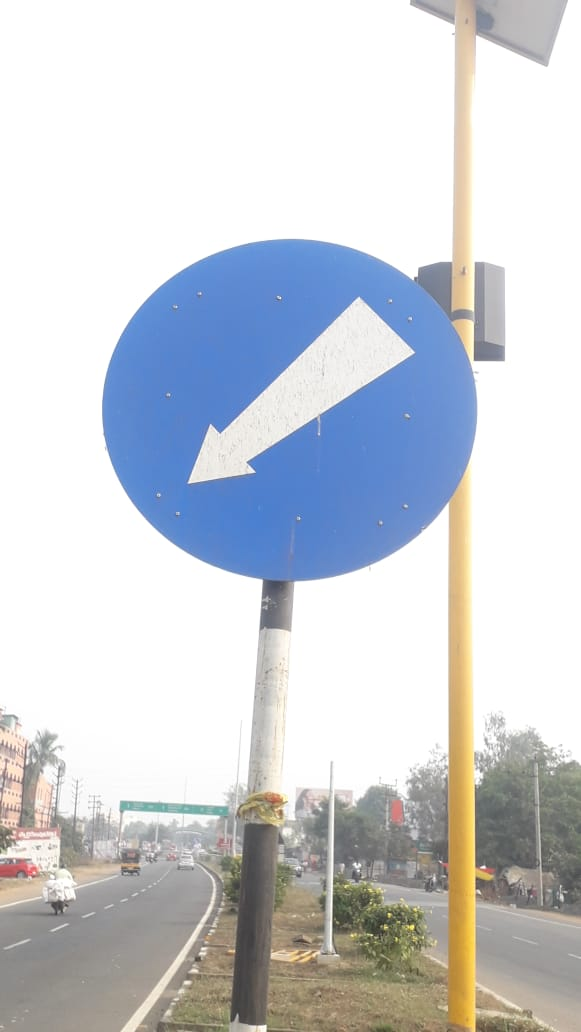go left: (96, 213, 493, 647)
